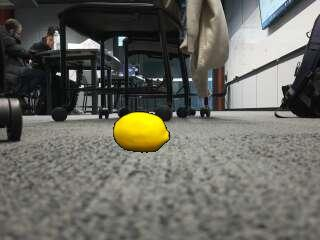lemon: (114, 112, 170, 152)
